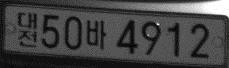0: (64, 15, 81, 49)
1: (165, 21, 185, 57)
2: (190, 22, 210, 58)
4: (115, 19, 138, 54)
5: (41, 13, 58, 48)
9: (140, 20, 161, 55)
대전_V: (16, 11, 37, 48)
바: (86, 19, 106, 50)
